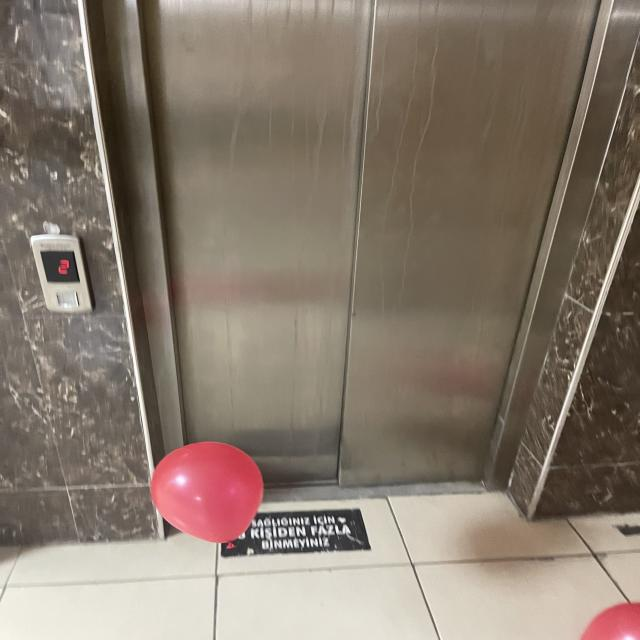balloon: (151, 442, 263, 543), (581, 602, 640, 640)
